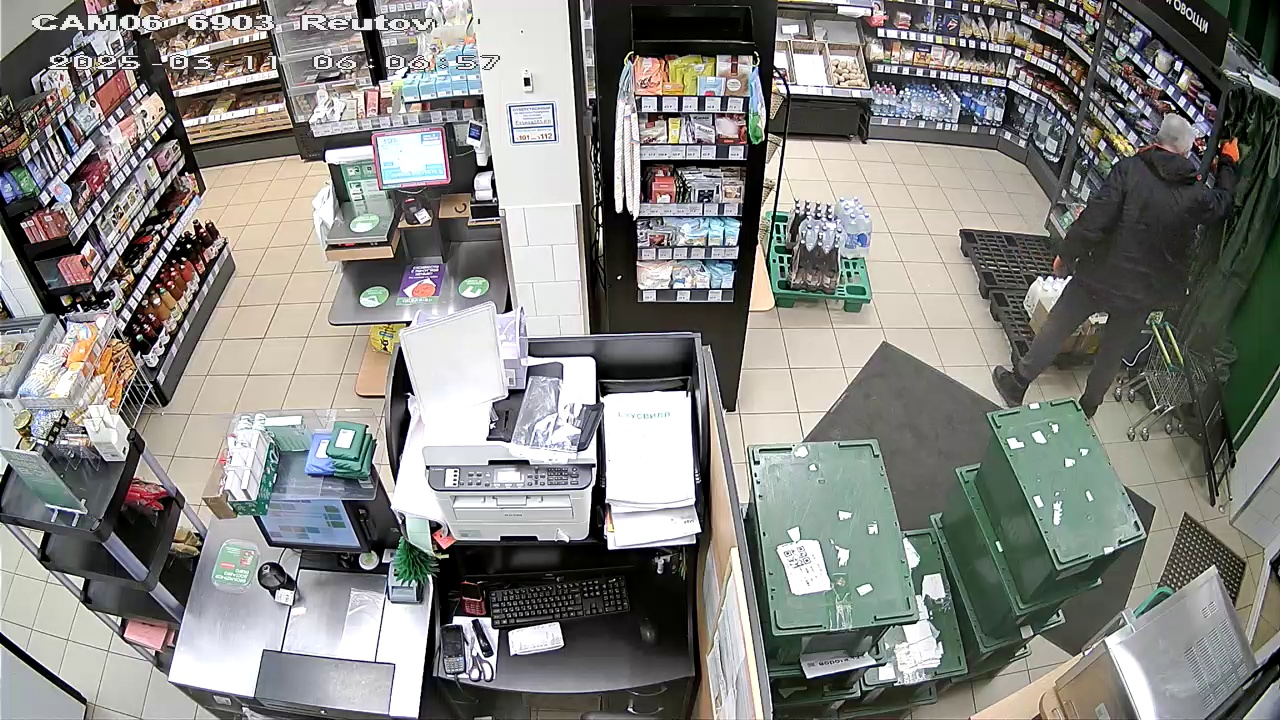Human: (1010, 104, 1224, 430)
pallet: (955, 225, 1138, 368)
